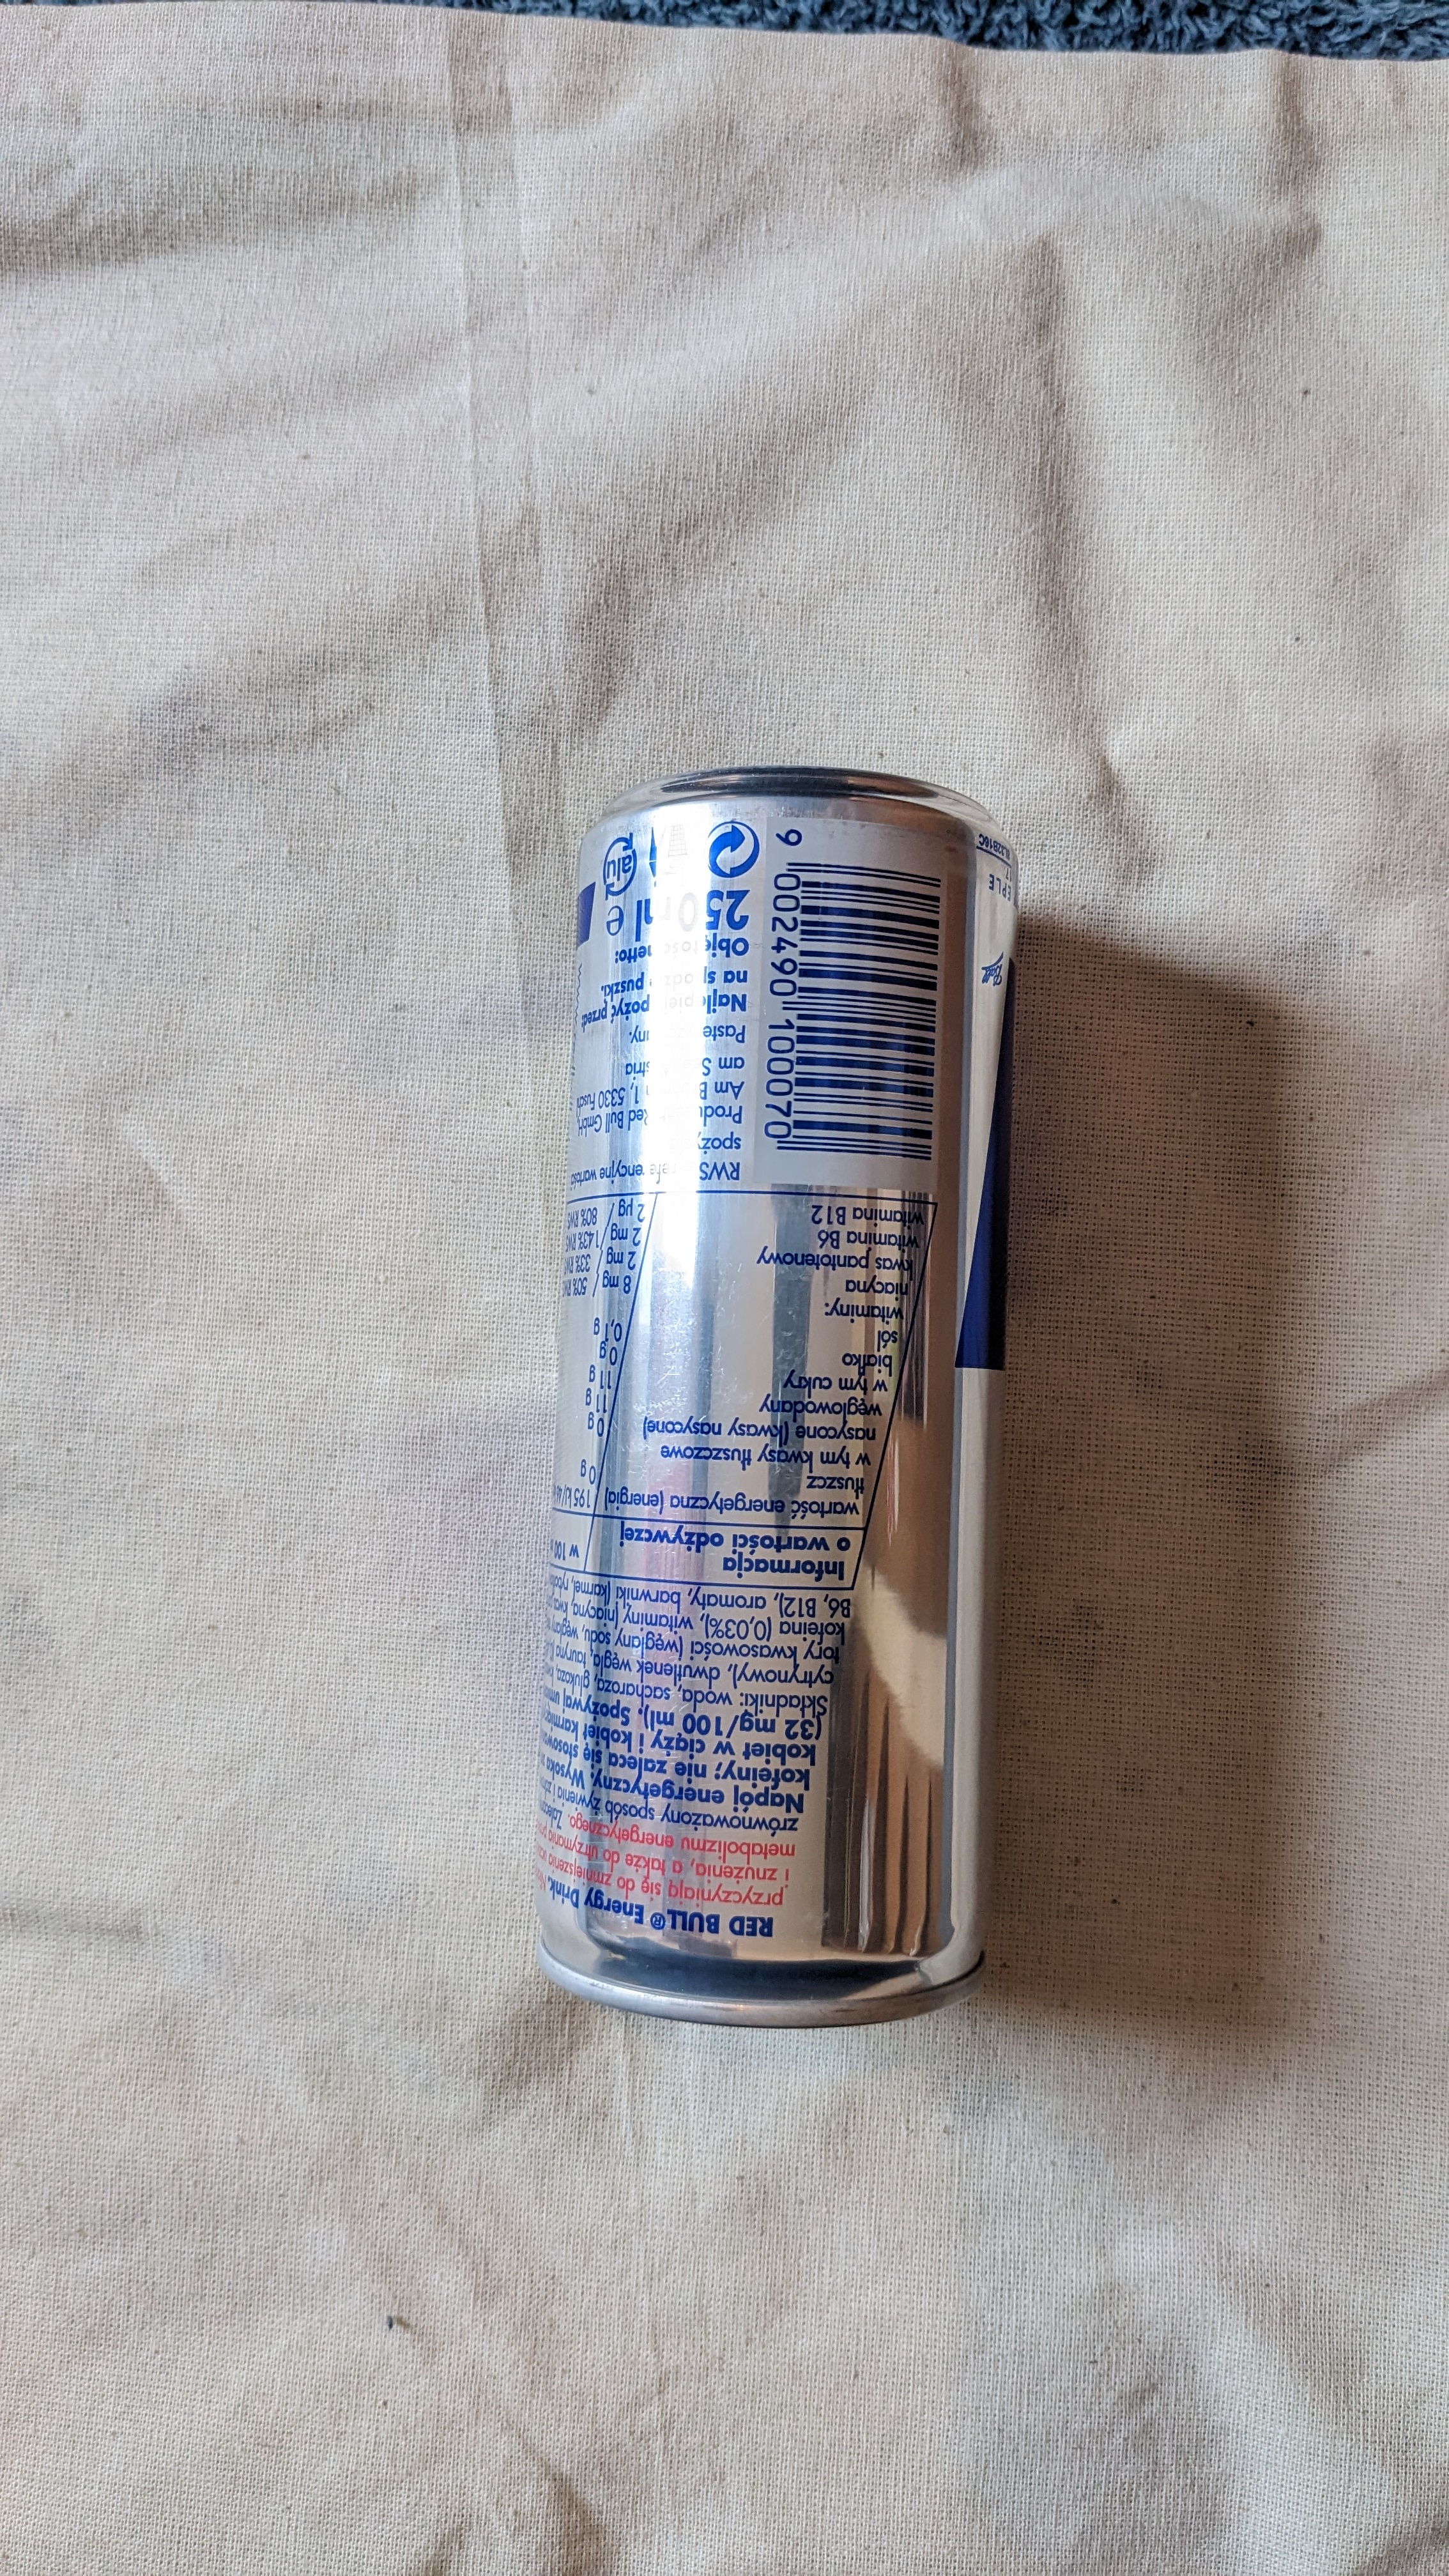red-bull: (513, 757, 1077, 2059)
